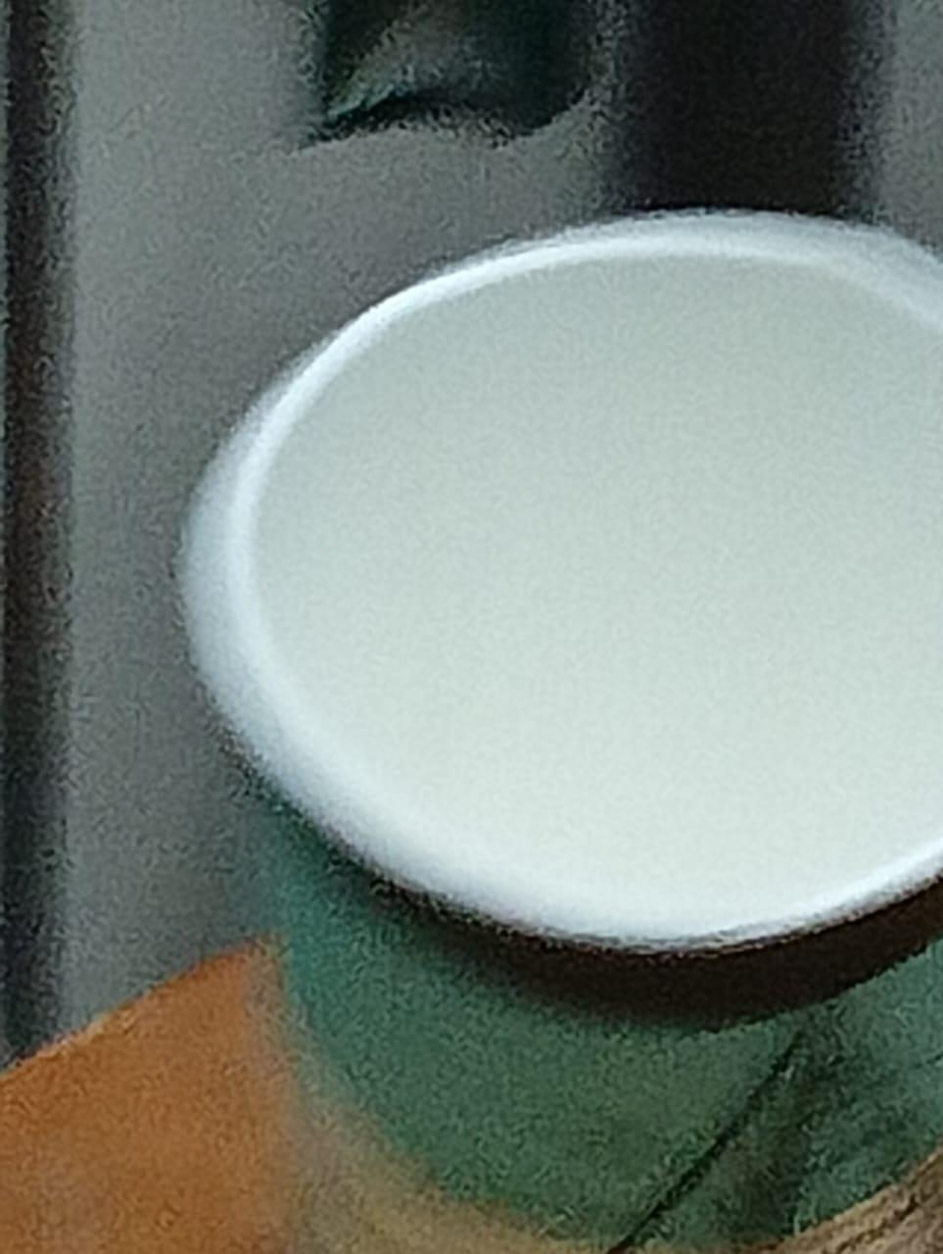cup: (185, 212, 942, 1248)
